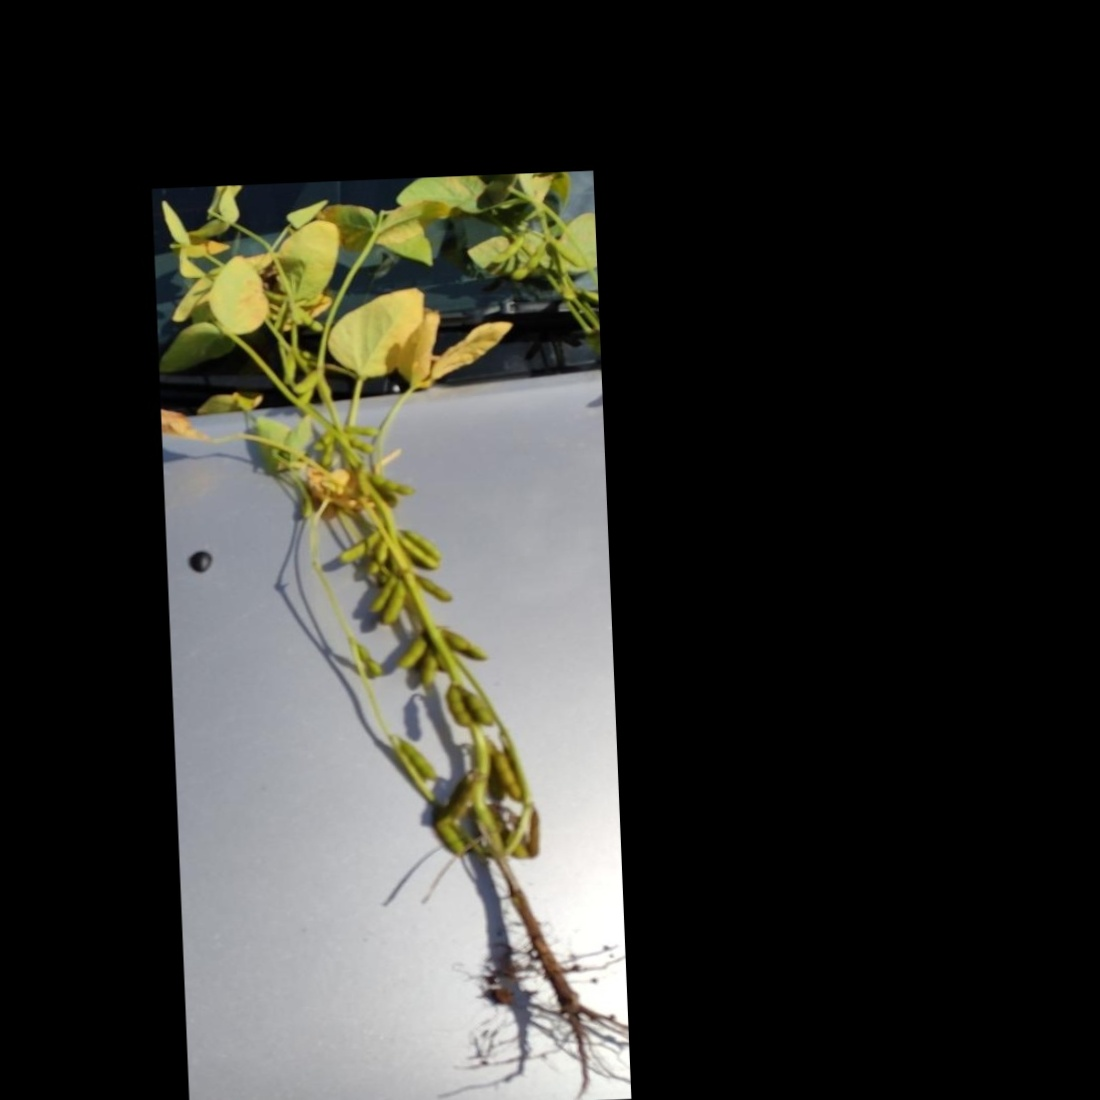pod: (391, 729, 438, 789), (393, 527, 446, 567), (395, 528, 439, 576), (328, 528, 382, 565), (375, 579, 415, 629), (445, 679, 476, 741), (393, 629, 430, 672), (370, 467, 423, 498), (463, 685, 496, 728), (288, 367, 330, 399), (358, 642, 383, 677)
soy: (169, 227, 622, 1088)
